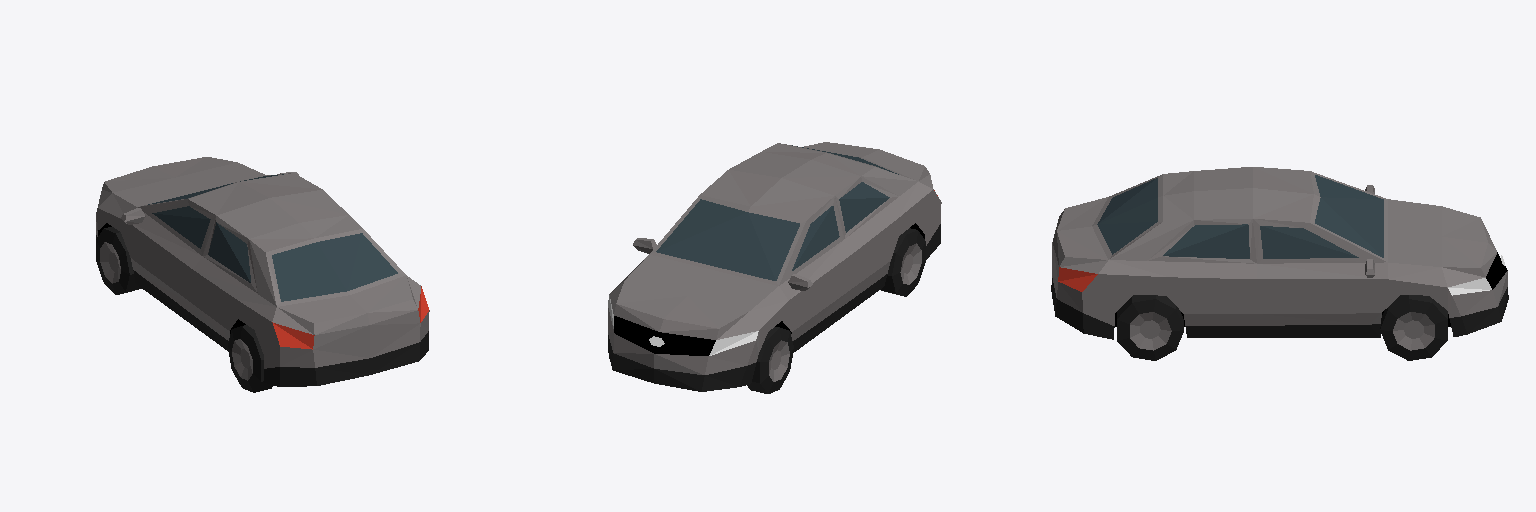
The model's file is Car1.obj.
3 views of the same model, side by side, from view 1: azimuth 30°, elevation 25°; view 2: azimuth 150°, elevation 25°; view 3: azimuth 270°, elevation 25° (orthographic).
Parts seen in each view (by area): view 1: car-passenger-base, car-passenger-wheel_FL, car-passenger.002; view 2: car-passenger-base, car-passenger-wheel_FL, car-passenger.002; view 3: car-passenger-base, car-passenger-wheel_BR, car-passenger-wheel_FR.
Boxes of the visible parts, box(x1,y1,x2,y2) form: car-passenger-base: box(96, 157, 429, 386); car-passenger-wheel_FL: box(96, 227, 141, 294); car-passenger.002: box(228, 325, 273, 392); car-passenger-base: box(608, 142, 941, 391); car-passenger-wheel_FL: box(747, 327, 793, 393); car-passenger.002: box(881, 228, 925, 296); car-passenger-base: box(1051, 167, 1508, 339); car-passenger-wheel_BR: box(1117, 295, 1183, 360); car-passenger-wheel_FR: box(1380, 295, 1447, 360).
Bounding box in the file's own units: 2.1 × 1.55 × 4.72.